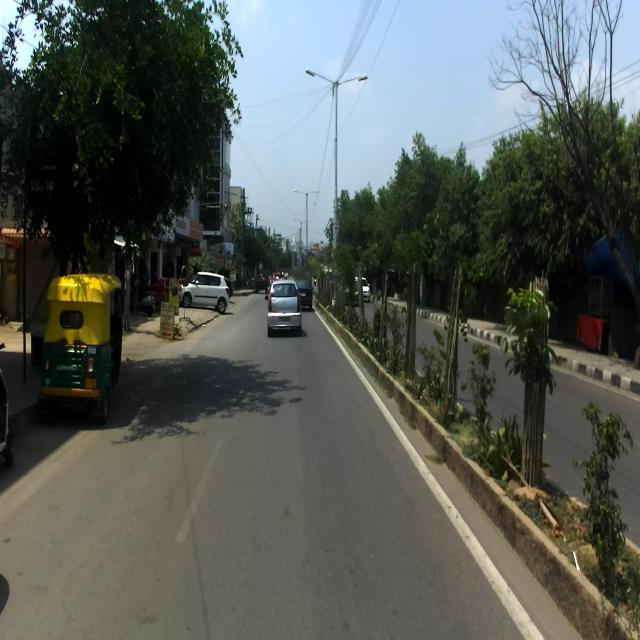auto ahead at: (38, 265, 127, 423)
car ahead at: (265, 274, 304, 346), (183, 264, 232, 316)
